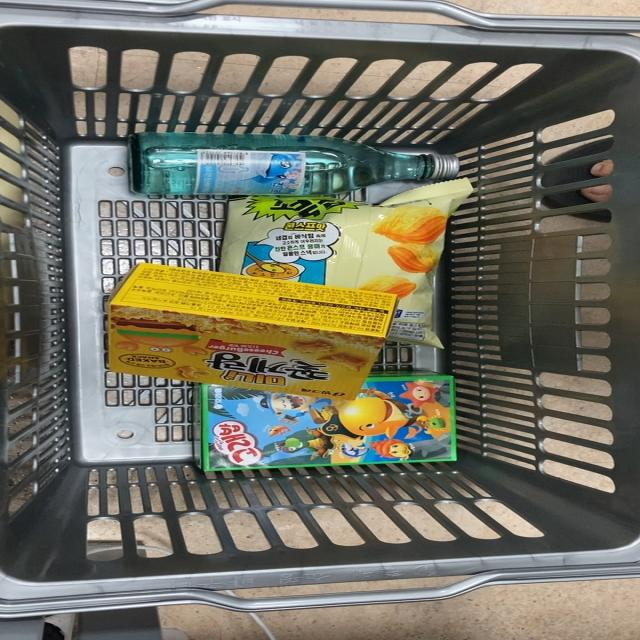ggobukchip: (211, 198, 483, 289)
goraebob: (173, 389, 491, 480)
jinro: (110, 129, 470, 201)
minicrab: (108, 262, 380, 404)
